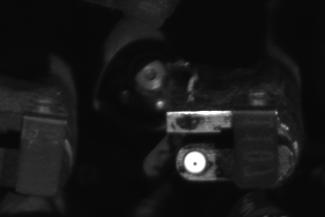fiber: (181, 147, 211, 177)
